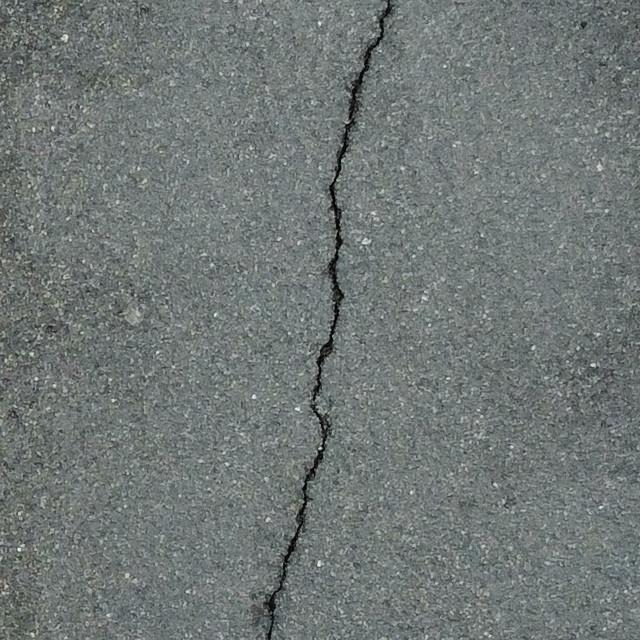LongitudinalCrack: (266, 1, 393, 639)
